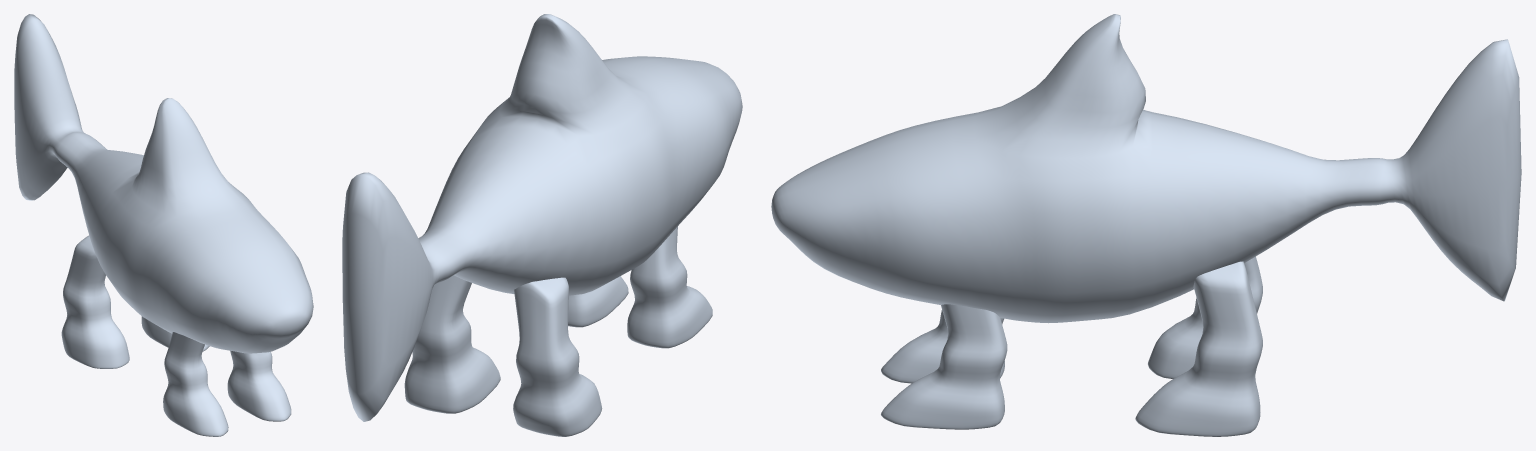
Rendered from sharkRat.fbx.
3 views of the same model, side by side, from view 1: azimuth 30°, elevation 25°; view 2: azimuth 150°, elevation 25°; view 3: azimuth 270°, elevation 25° (orthographic). The views are drawn at different scales.
Visible parts, largest first — view 1: Cube, Cube.004, Cube.003, Cube.001, Cube.002; view 2: Cube, Cube.004, Cube.002, Cube.003, Cube.001; view 3: Cube, Cube.002, Cube.001, Cube.004, Cube.003.
Part boxes in pixels (x1,y1,x2,y2): Cube: (14, 14, 313, 353); Cube.004: (61, 235, 129, 368); Cube.003: (163, 332, 228, 436); Cube.001: (227, 350, 291, 421); Cube.002: (141, 316, 209, 351); Cube: (342, 14, 742, 421); Cube.004: (513, 277, 602, 436); Cube.002: (404, 275, 500, 413); Cube.003: (627, 226, 712, 348); Cube.001: (568, 276, 628, 327); Cube: (771, 14, 1521, 323); Cube.002: (1135, 261, 1262, 436); Cube.001: (881, 304, 1007, 429); Cube.004: (1148, 256, 1262, 378); Cube.003: (881, 310, 1004, 383).
Size of the model in its own units: 271 by 957 by 535.
